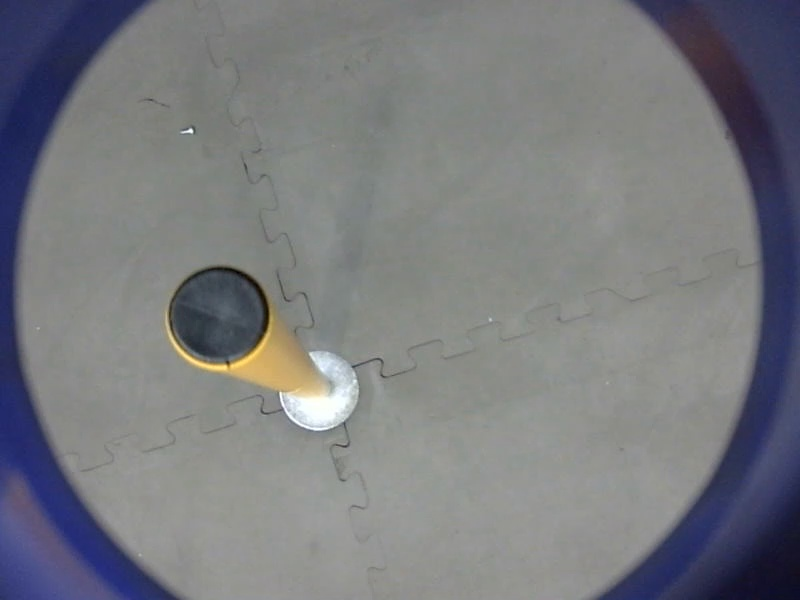tip: (161, 261, 277, 374)
